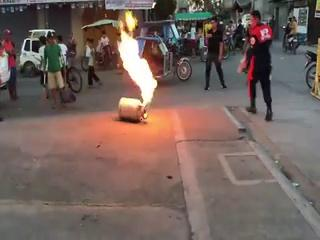Fire: (110, 34, 158, 103)
